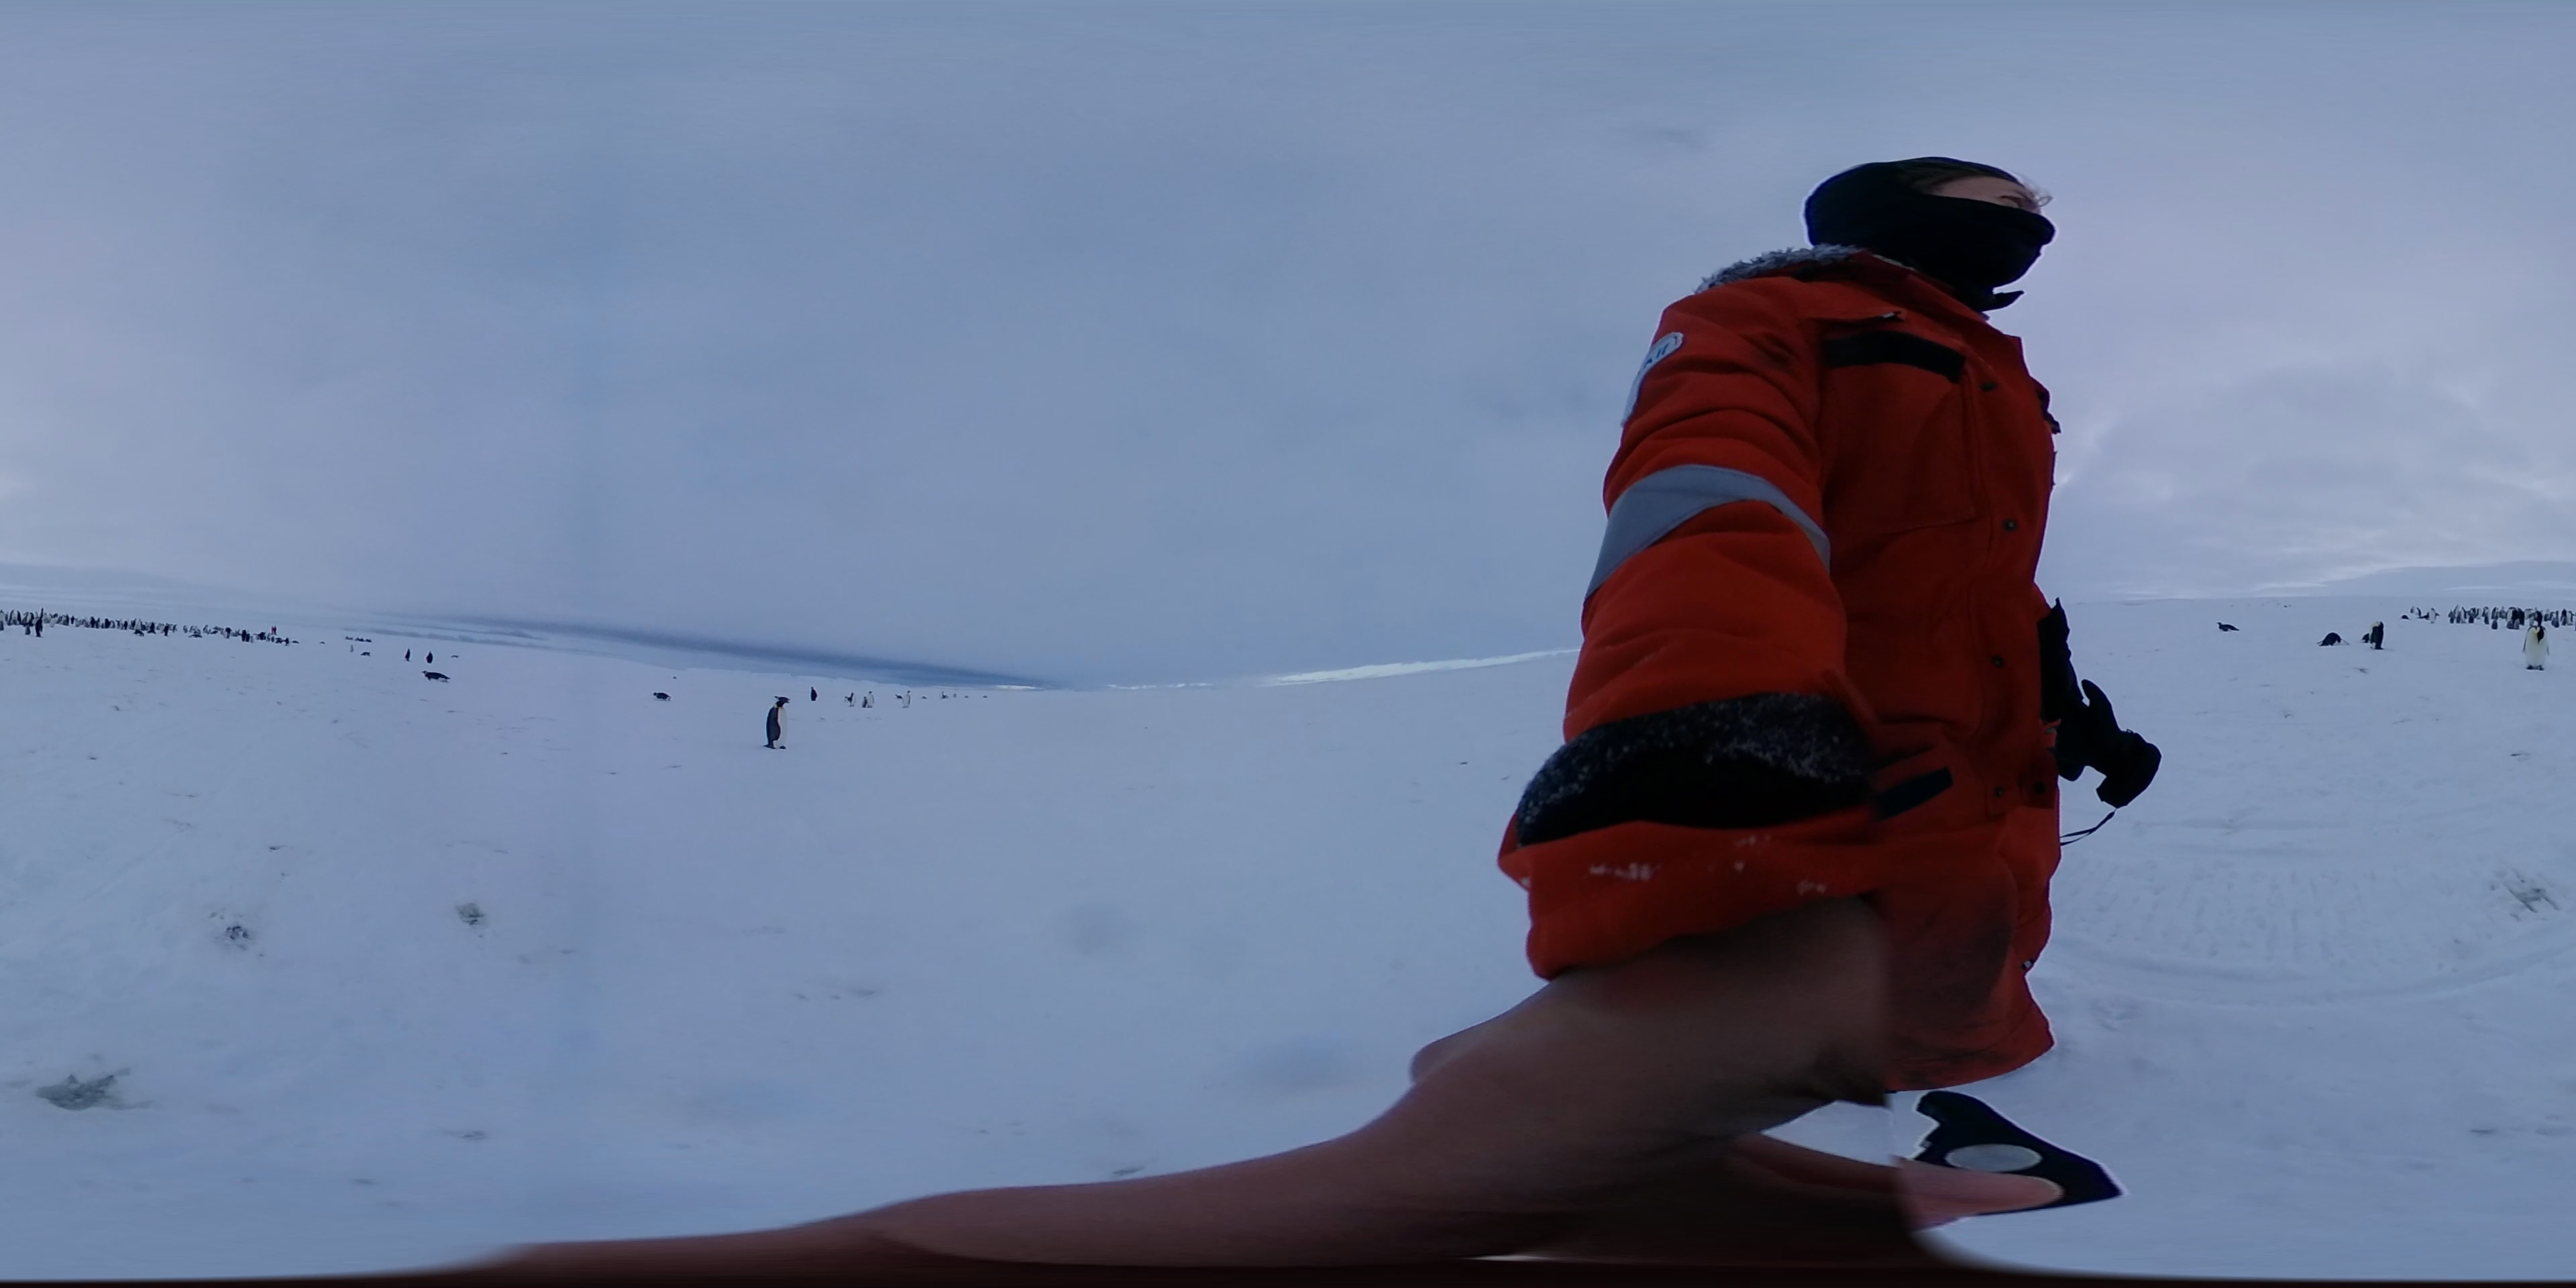adult_standing_penguin: (2518, 626, 2555, 672), (762, 698, 785, 747), (2369, 621, 2385, 652)
adult_toboggan_penguin: (419, 669, 453, 685), (2316, 631, 2348, 649), (2215, 619, 2242, 636), (647, 692, 674, 703)
researcher: (1536, 120, 2177, 1186)
